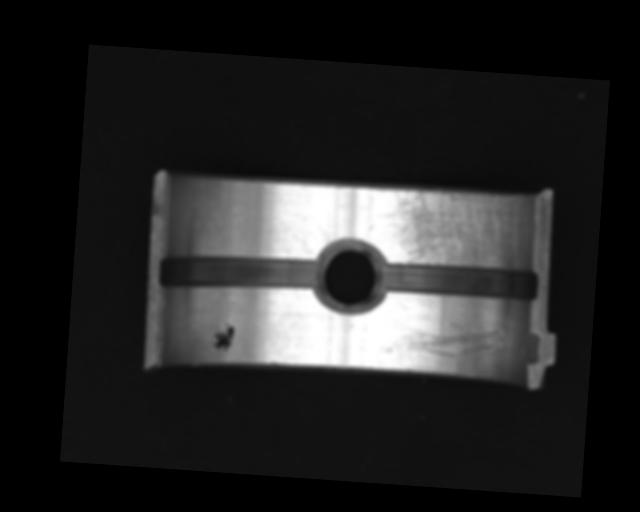blot: (209, 321, 235, 353)
gap: (153, 248, 324, 300), (378, 260, 540, 303)
hole: (313, 241, 389, 311)
nick: (380, 316, 501, 364), (308, 214, 333, 247)
scratch: (372, 184, 527, 272)
